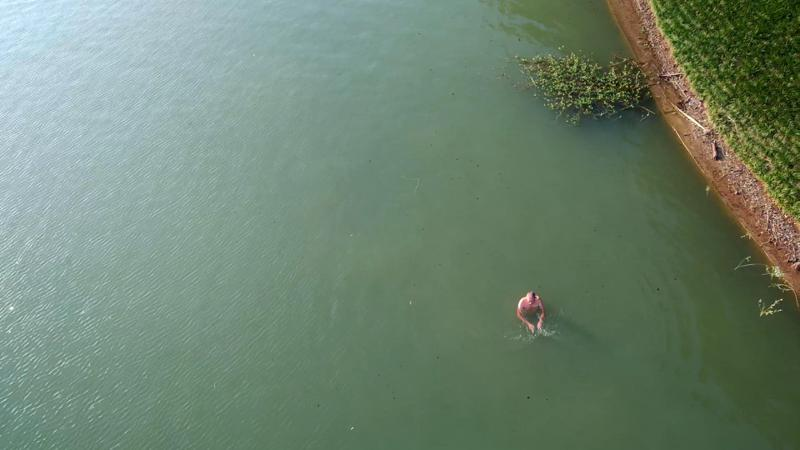swimmers: (515, 290, 546, 335)
